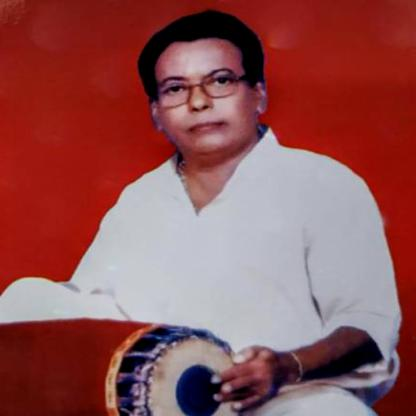Mridangam: (2, 317, 248, 412)
